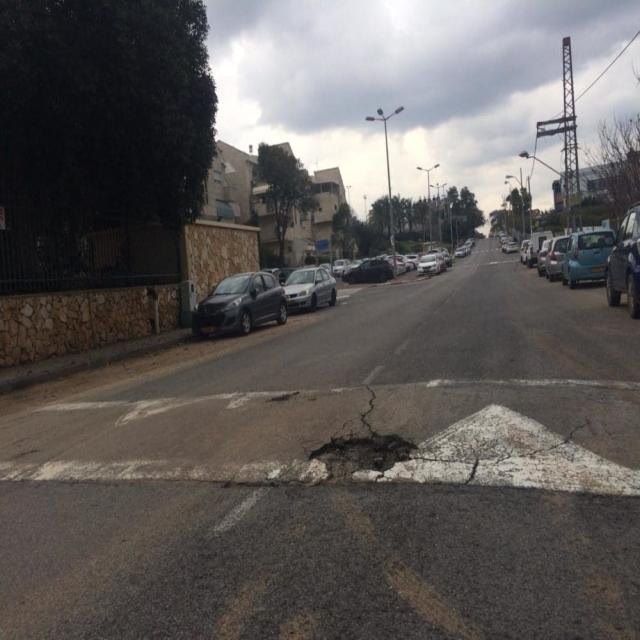major_pothole: (305, 429, 419, 485)
